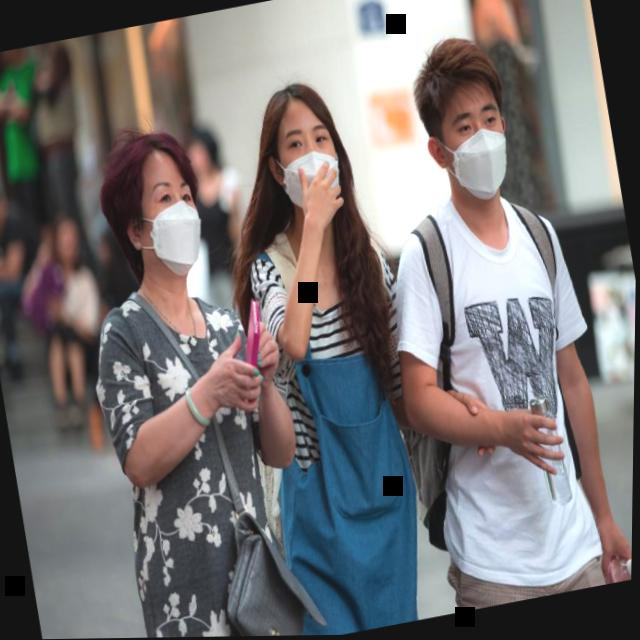Mask: (400, 23, 532, 218), (236, 68, 370, 247), (90, 118, 223, 292)
